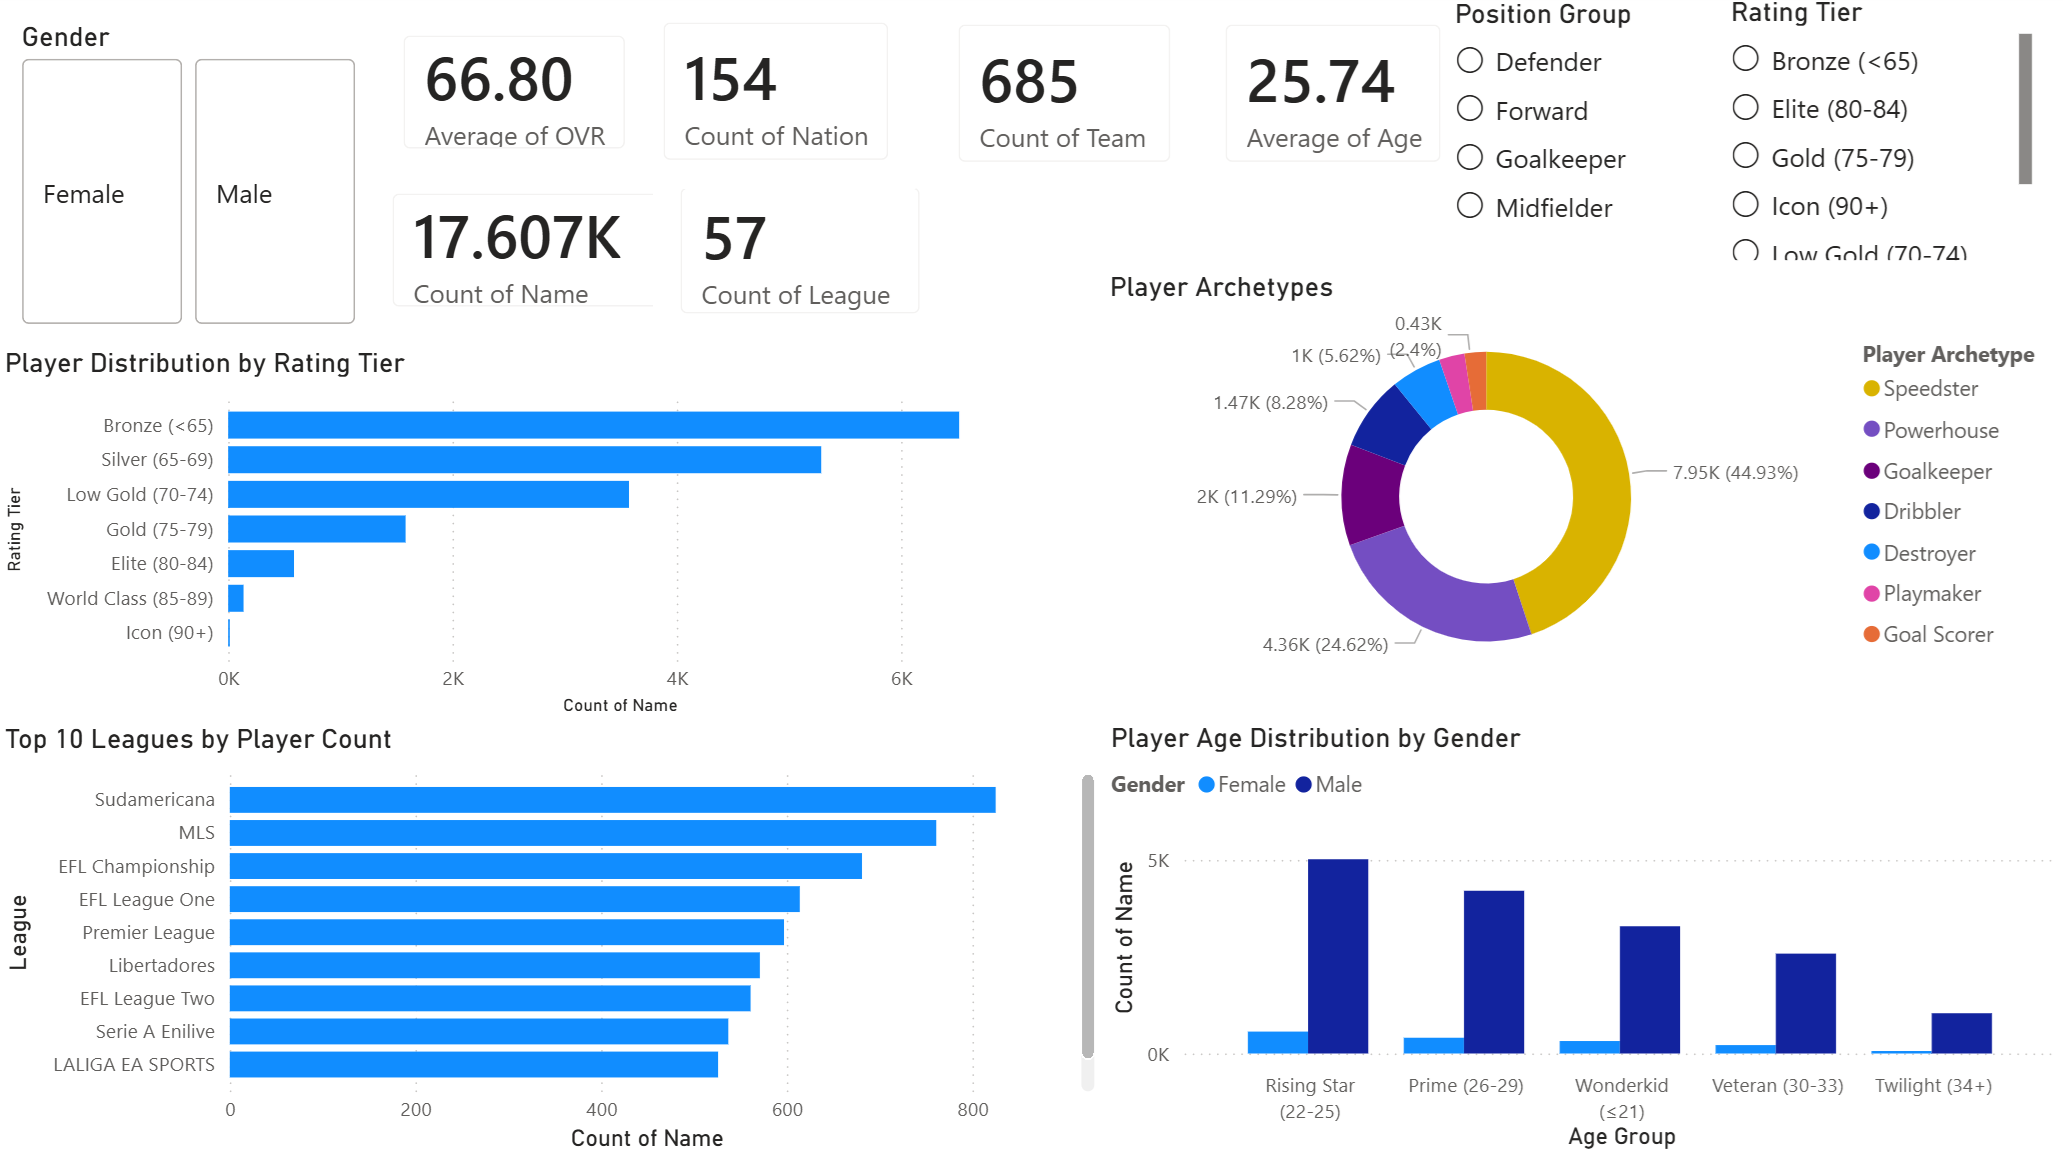

What the dashboard file says about the page in this screenshot:
{"tool":"powerbi","page":{"name":"Overview","canvas":[1280,720],"ordinal":0},"visuals":[{"type":"cardVisual","fields":{"Data":["Count(fc25_powerbi_ready.Name)"]},"box":[227.4,105.5,254.4,104.3],"z":0},{"type":"cardVisual","fields":{"Data":["Avg(fc25_powerbi_ready.OVR)"]},"box":[234.4,8.2,171.1,104.3],"z":1000},{"type":"cardVisual","fields":{"Data":["Count(fc25_powerbi_ready.League)"]},"box":[405.6,102,182.9,112.5],"z":2000},{"type":"cardVisual","fields":{"Data":["Count(fc25_powerbi_ready.Nation)"]},"box":[395,0,173.5,119.6],"z":3000},{"type":"cardVisual","fields":{"Data":["Count(fc25_powerbi_ready.Team)"]},"box":[577.9,1.2,165.3,119.6],"z":4000},{"type":"cardVisual","fields":{"Data":["Avg(fc25_powerbi_ready.Age)"]},"box":[743.2,1.2,167.6,119.6],"z":5000},{"type":"clusteredBarChart","title":"Player Distribution by Rating Tier","fields":{"Category":["fc25_powerbi_ready.Rating Tier"],"Y":["Count(fc25_powerbi_ready.Name)"]},"box":[0,216.9,640.6,232.8],"z":6000},{"type":"donutChart","title":"Player Archetypes","fields":{"Category":["fc25_powerbi_ready.Player Archetype"],"Y":["Count(fc25_powerbi_ready.Name)"]},"box":[683.8,170,596.2,261.4],"z":7000},{"type":"clusteredBarChart","title":"Top 10 Leagues by Player Count","fields":{"Category":["fc25_powerbi_ready.League"],"Y":["Count(fc25_powerbi_ready.Name)"]},"box":[0,449.4,683.8,270.4],"z":8000},{"type":"clusteredColumnChart","title":"Player Age Distribution by Gender","fields":{"Category":["fc25_powerbi_ready.Age Group"],"Y":["Count(fc25_powerbi_ready.Name)"],"Series":["fc25_powerbi_ready.Gender"]},"box":[684,449,596,270],"z":9000},{"type":"listSlicer","fields":{"Values":["fc25_powerbi_ready.Position Group"]},"box":[896.7,1.2,171.1,170],"z":10000},{"type":"listSlicer","fields":{"Values":["fc25_powerbi_ready.Rating Tier"]},"box":[1067.8,0,196.9,170],"z":11000},{"type":"advancedSlicerVisual","fields":{"Values":["fc25_powerbi_ready.Gender"]},"box":[10.5,15.2,216.8,193.4],"z":12000}]}

Visuals, with their boxes in screenshot pixels (x1, y1, x2, y2), scaled from the page's 1280x720 canvas onto the 2063x1153 screenshot:
cardVisual - Count(fc25_powerbi_ready.Name): 367:169:777:336
cardVisual - Avg(fc25_powerbi_ready.OVR): 378:13:654:180
cardVisual - Count(fc25_powerbi_ready.League): 654:163:948:343
cardVisual - Count(fc25_powerbi_ready.Nation): 637:0:916:192
cardVisual - Count(fc25_powerbi_ready.Team): 931:2:1198:193
cardVisual - Avg(fc25_powerbi_ready.Age): 1198:2:1468:193
"Player Distribution by Rating Tier" clusteredBarChart: 0:347:1032:720
"Player Archetypes" donutChart: 1102:272:2062:691
"Top 10 Leagues by Player Count" clusteredBarChart: 0:720:1102:1152
"Player Age Distribution by Gender" clusteredColumnChart: 1102:719:2062:1151
listSlicer - fc25_powerbi_ready.Position Group: 1445:2:1721:274
listSlicer - fc25_powerbi_ready.Rating Tier: 1721:0:2038:272
advancedSlicerVisual - fc25_powerbi_ready.Gender: 17:24:366:334
